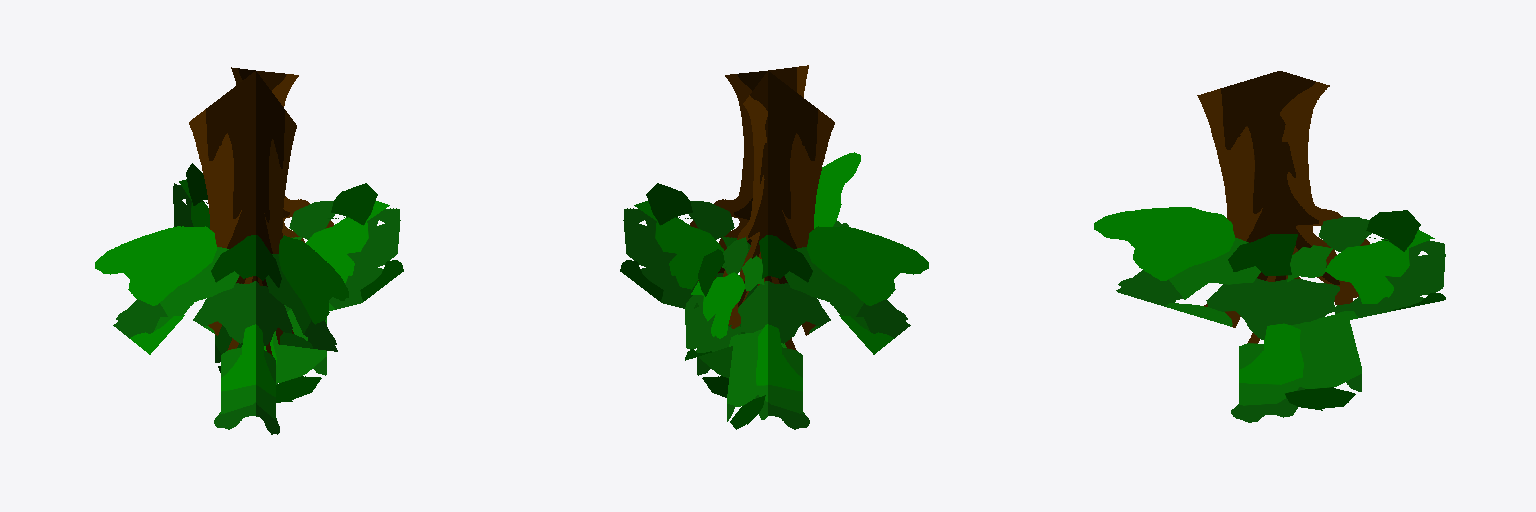
The picture shows the model from 3 angles: view 1: azimuth 30°, elevation 25°; view 2: azimuth 150°, elevation 25°; view 3: azimuth 270°, elevation 25°; orthographic projection.
Visible parts, largest first — view 1: pPlane3; view 2: pPlane3; view 3: pPlane3.
Part boxes in pixels (bbox=[...]): pPlane3: bbox=[95, 67, 403, 434]; pPlane3: bbox=[620, 65, 928, 429]; pPlane3: bbox=[1094, 71, 1445, 422].
Size of the model in its own units: 1 by 1 by 1.
1 materials, 1 textured.